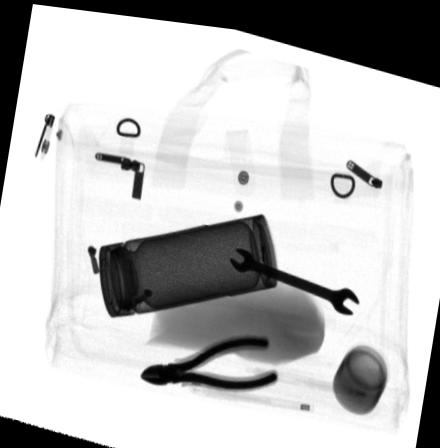Pliers: (138, 327, 276, 386)
Wrench: (230, 240, 360, 306)
